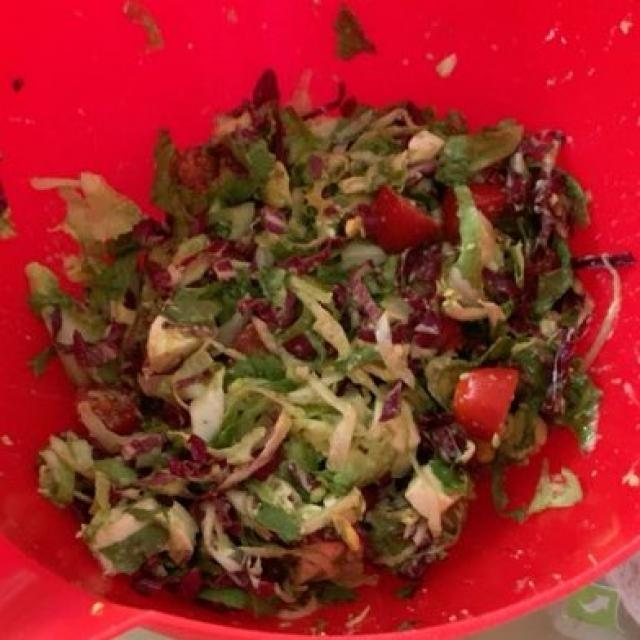salad: (18, 106, 610, 592)
